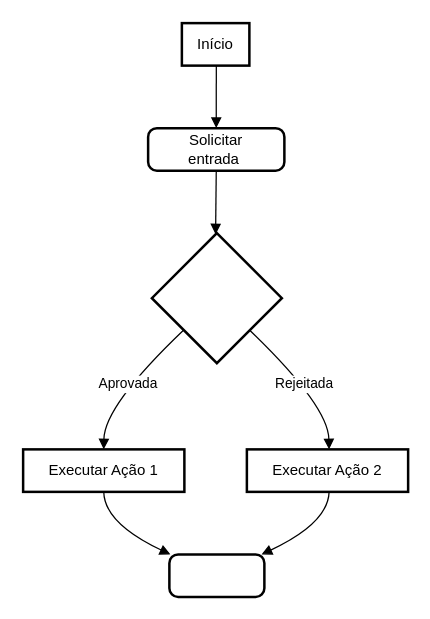
Image size: 430x619. Some labels were removed from this diagram. The shapes that lost their labels are listed below. From the top down, each one's centre as x and y in pixels, then its label:
(216,297): Decisão
(216,575): Término
